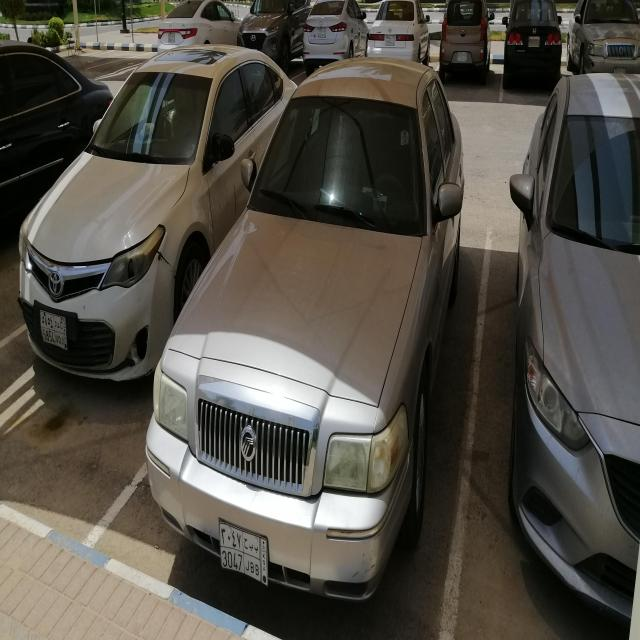license_plate: (219, 520, 270, 588), (38, 307, 68, 353), (528, 36, 540, 48), (385, 35, 395, 46), (457, 52, 467, 62), (318, 28, 326, 38), (168, 33, 175, 42)
